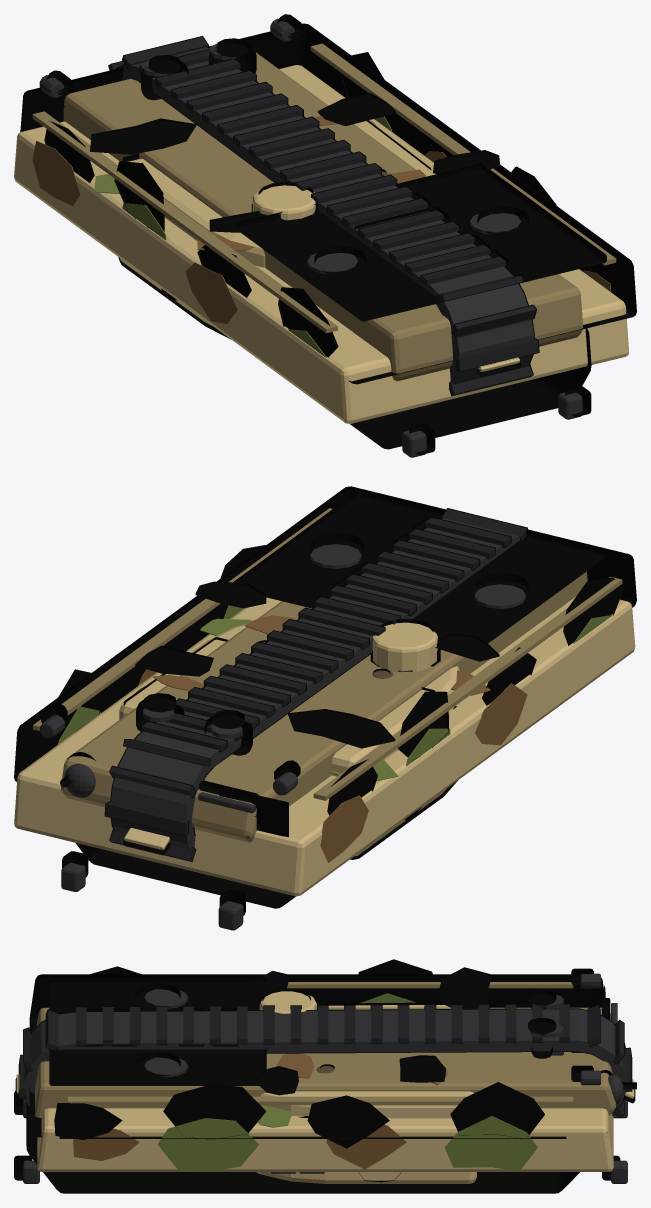
The model's file is Tank.glb.
3 renders of one model, top to bottom at view 1: azimuth 30°, elevation 25°; view 2: azimuth 150°, elevation 25°; view 3: azimuth 270°, elevation 25°, orthographic. The views are drawn at different scales.
Parts seen in each view (by area): view 1: Tank_Hull__000000, Tank_Hull__8E7B52, Tank_Hull__C9B27C, Tank_TrackL__1E1E20, Tank_TrackL__2E2E30, Tank_TrackR__2E2E30, Tank_Turret__C9B27C, Tank_Hull__7A5A34, Tank_TrackL__000000, Tank_Hull__2E2E30, Tank_Hull__6B7A3A, Tank_Turret__000000; view 2: Tank_Hull__000000, Tank_Hull__C9B27C, Tank_Hull__8E7B52, Tank_TrackL__1E1E20, Tank_TrackL__2E2E30, Tank_TrackR__2E2E30, Tank_Hull__2E2E30, Tank_Turret__C9B27C, Tank_Hull__7A5A34, Tank_TrackL__000000, Tank_Hull__6B7A3A, Tank_Turret__000000 (+2 smaller); view 3: Tank_Hull__000000, Tank_Hull__8E7B52, Tank_Hull__C9B27C, Tank_TrackL__2E2E30, Tank_TrackL__1E1E20, Tank_Hull__6B7A3A, Tank_Turret__C9B27C, Tank_TrackR__2E2E30, Tank_Hull__2E2E30, Tank_Hull__7A5A34, Tank_TrackL__000000, Tank_Turret__000000 (+1 smaller).
Boxes of the visible parts, x1=… form: Tank_Hull__000000: x1=20, y1=14, x2=636, y2=454; Tank_Hull__8E7B52: x1=32, y1=43, x2=616, y2=381; Tank_Hull__C9B27C: x1=14, y1=65, x2=628, y2=423; Tank_TrackL__1E1E20: x1=109, y1=36, x2=538, y2=395; Tank_TrackL__2E2E30: x1=117, y1=47, x2=533, y2=384; Tank_TrackR__2E2E30: x1=118, y1=47, x2=533, y2=382; Tank_Turret__C9B27C: x1=120, y1=120, x2=436, y2=326; Tank_Hull__7A5A34: x1=32, y1=120, x2=611, y2=323; Tank_TrackL__000000: x1=108, y1=36, x2=539, y2=396; Tank_Hull__2E2E30: x1=39, y1=18, x2=582, y2=457; Tank_Hull__6B7A3A: x1=94, y1=116, x2=391, y2=357; Tank_Turret__000000: x1=118, y1=120, x2=431, y2=339; Tank_Hull__000000: x1=14, y1=486, x2=636, y2=915; Tank_Hull__C9B27C: x1=14, y1=597, x2=635, y2=896; Tank_Hull__8E7B52: x1=33, y1=508, x2=622, y2=842; Tank_TrackL__1E1E20: x1=105, y1=509, x2=527, y2=861; Tank_TrackL__2E2E30: x1=111, y1=518, x2=519, y2=849; Tank_TrackR__2E2E30: x1=111, y1=518, x2=519, y2=848; Tank_Hull__2E2E30: x1=40, y1=544, x2=525, y2=930; Tank_Turret__C9B27C: x1=119, y1=622, x2=459, y2=856; Tank_Hull__7A5A34: x1=133, y1=669, x2=527, y2=862; Tank_TrackL__000000: x1=104, y1=508, x2=528, y2=861; Tank_Hull__6B7A3A: x1=58, y1=605, x2=612, y2=781; Tank_Turret__000000: x1=123, y1=619, x2=460, y2=859; Tank_Hull__000000: x1=14, y1=959, x2=636, y2=1193; Tank_Hull__8E7B52: x1=35, y1=982, x2=615, y2=1117; Tank_Hull__C9B27C: x1=37, y1=1108, x2=613, y2=1171; Tank_TrackL__2E2E30: x1=24, y1=1009, x2=625, y2=1115; Tank_TrackL__1E1E20: x1=19, y1=1004, x2=631, y2=1120; Tank_Hull__6B7A3A: x1=157, y1=993, x2=537, y2=1171; Tank_Turret__C9B27C: x1=256, y1=991, x2=476, y2=1183; Tank_TrackR__2E2E30: x1=24, y1=1009, x2=615, y2=1082; Tank_Hull__2E2E30: x1=23, y1=973, x2=627, y2=1183; Tank_Hull__7A5A34: x1=73, y1=1124, x2=406, y2=1169; Tank_TrackL__000000: x1=18, y1=1003, x2=632, y2=1121; Tank_Turret__000000: x1=247, y1=988, x2=476, y2=1186.
Bounding box in the file's own units: 8.89 × 4.8 × 18.49.
